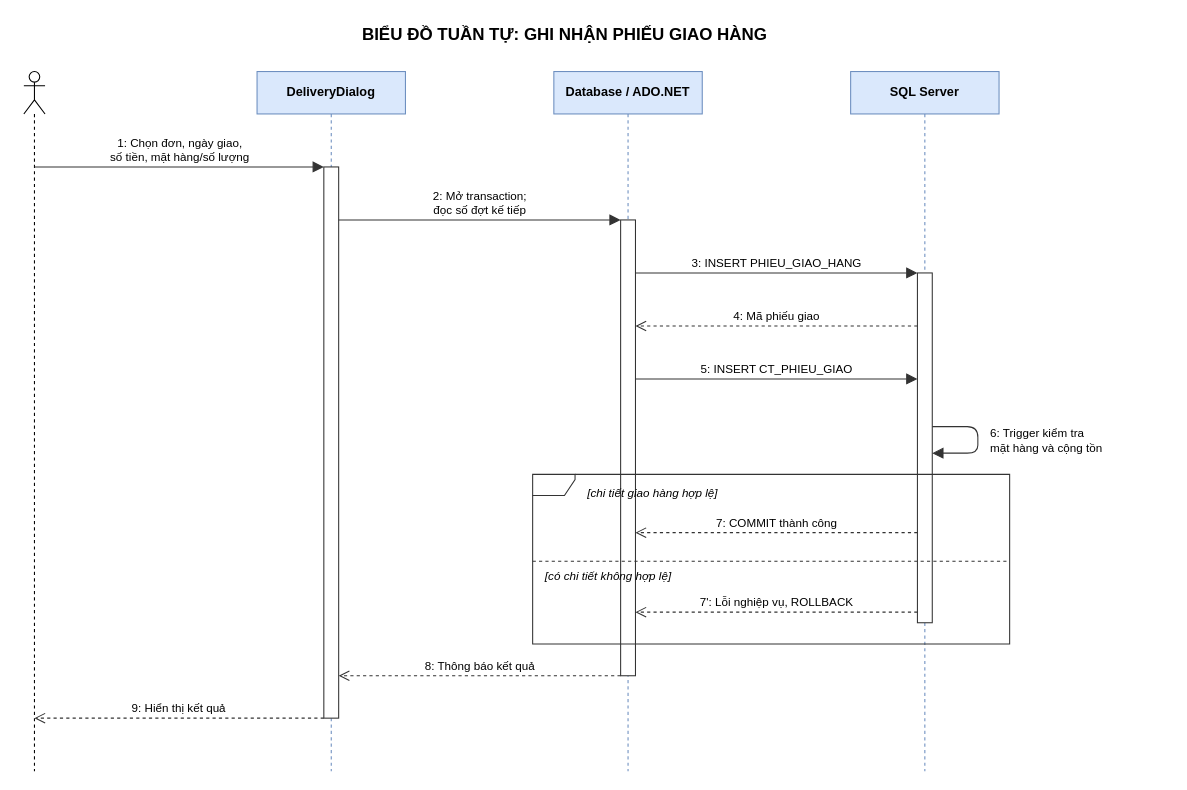
Some shapes in this 1187 by 790 pixel diagram are drawn without their labels. The shapes that lost their labels are listed below. From the top down, each one's box as (x1, y1, x2, y2) in pixels, then its label:
(23, 70, 45, 771): Nhân viên
(532, 473, 1010, 644): alt
